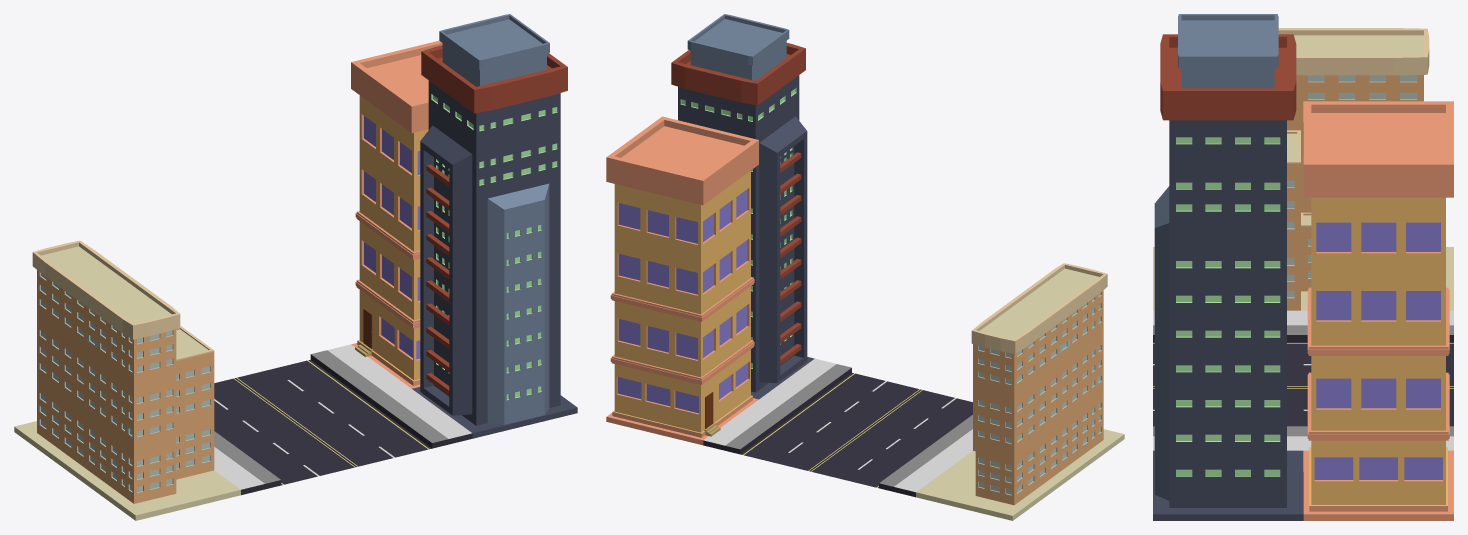
Rendered from Road set 4.fbx.
3 renders of one model, left to right at view 1: azimuth 30°, elevation 25°; view 2: azimuth 150°, elevation 25°; view 3: azimuth 270°, elevation 25°, orthographic. The views are drawn at different scales.
Visible parts, largest first — view 1: Road set-4; view 2: Road set-4; view 3: Road set-4.
Boxes of the visible parts, x1,y1,x2,y2 form: Road set-4: (14,14,577,520); Road set-4: (606,14,1124,520); Road set-4: (1153,14,1453,520).
Bounding box in the file's own units: 42 × 33.28 × 20.
